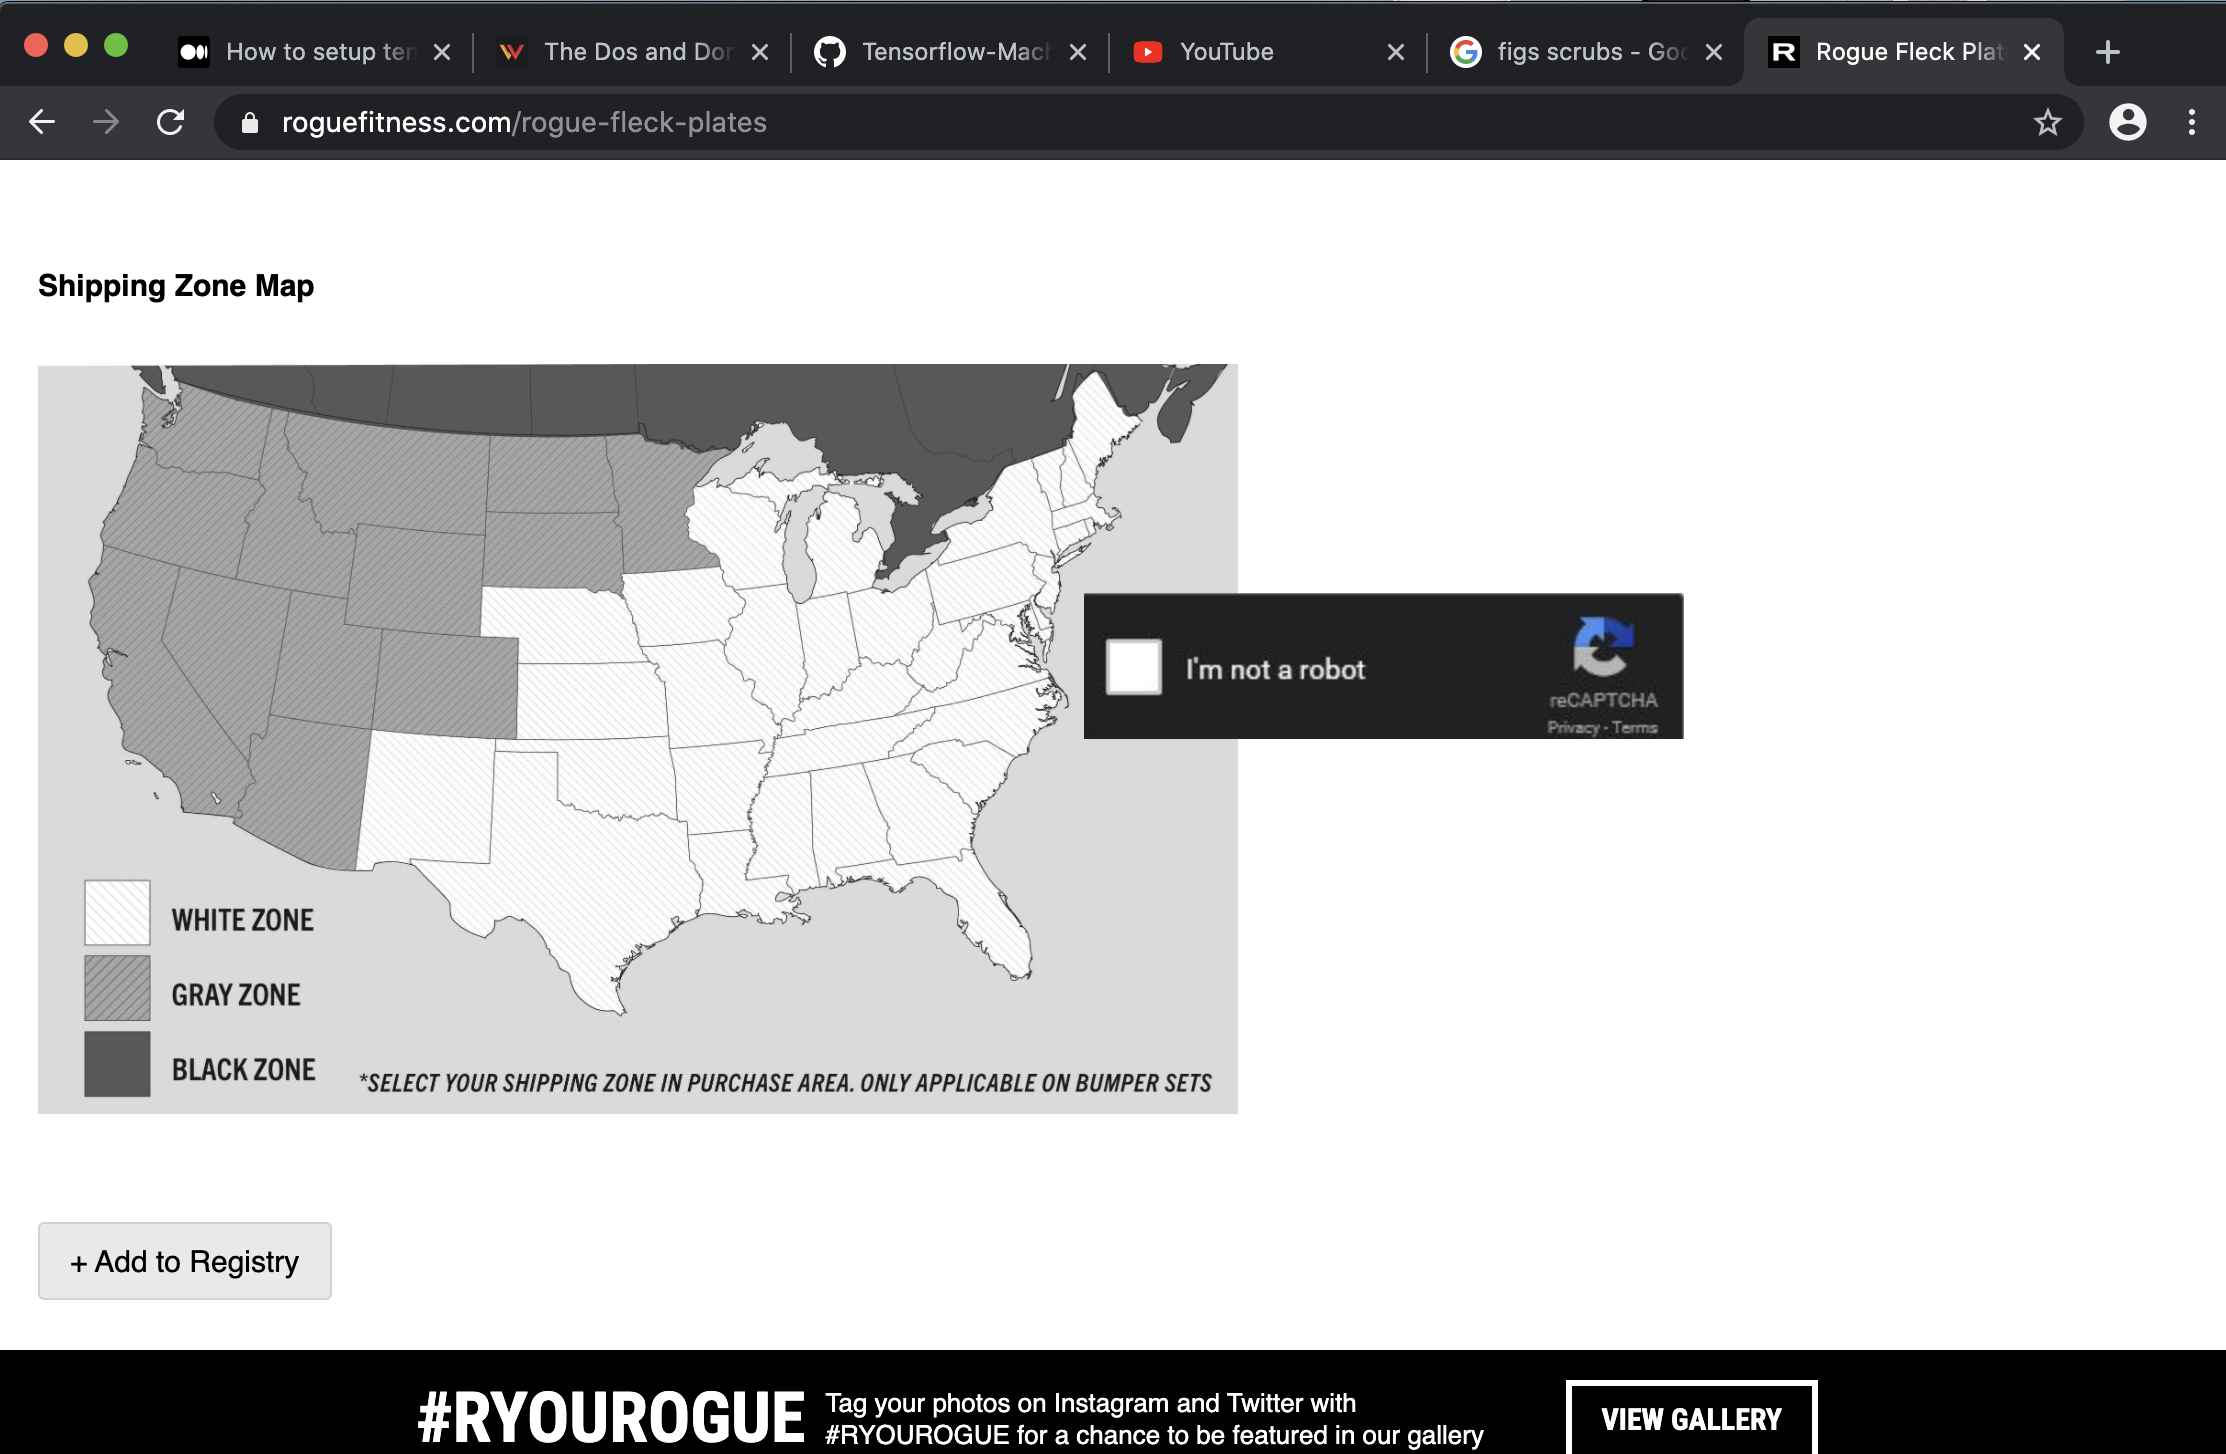captcha: (1072, 576, 1704, 753)
